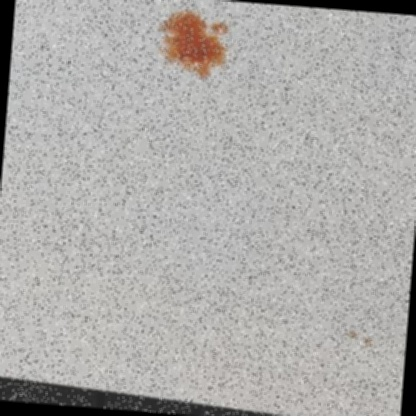kimchi: (154, 8, 239, 89)
